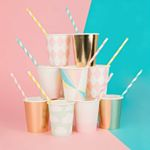cups: (70, 31, 102, 68), (46, 98, 75, 137), (22, 95, 50, 135), (34, 63, 62, 101), (45, 32, 73, 68), (98, 92, 124, 130), (75, 95, 99, 136), (87, 62, 112, 100)
